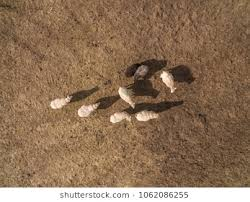sheep: (116, 85, 136, 109), (48, 93, 75, 110), (157, 70, 176, 93), (76, 101, 101, 118), (131, 64, 148, 87), (133, 109, 160, 123), (108, 110, 132, 124)
